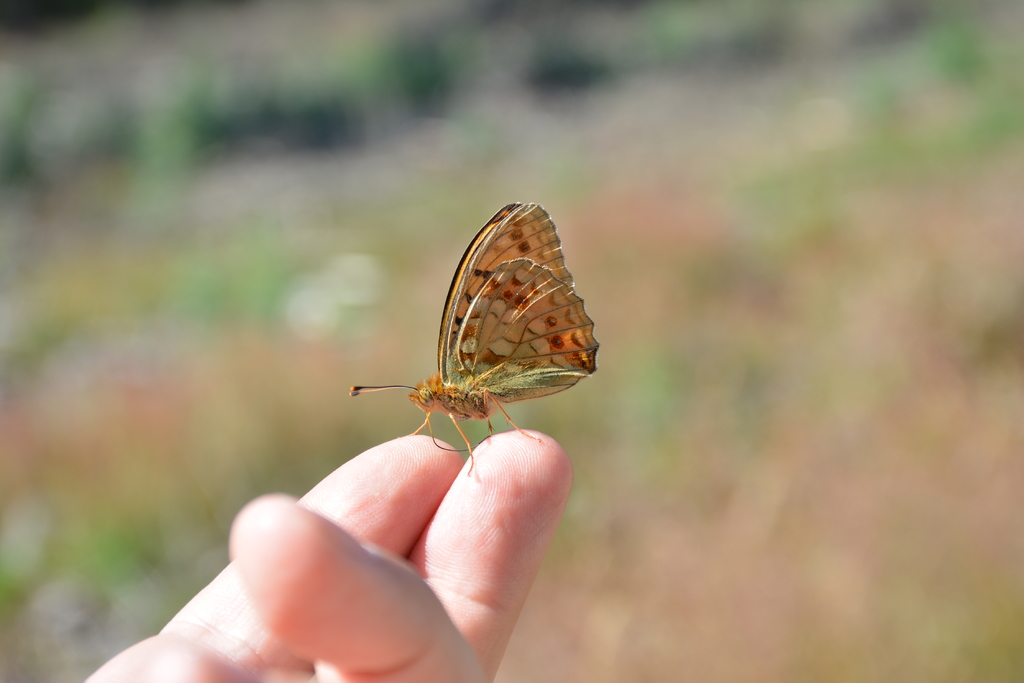Butterfly: (358, 208, 608, 455)
